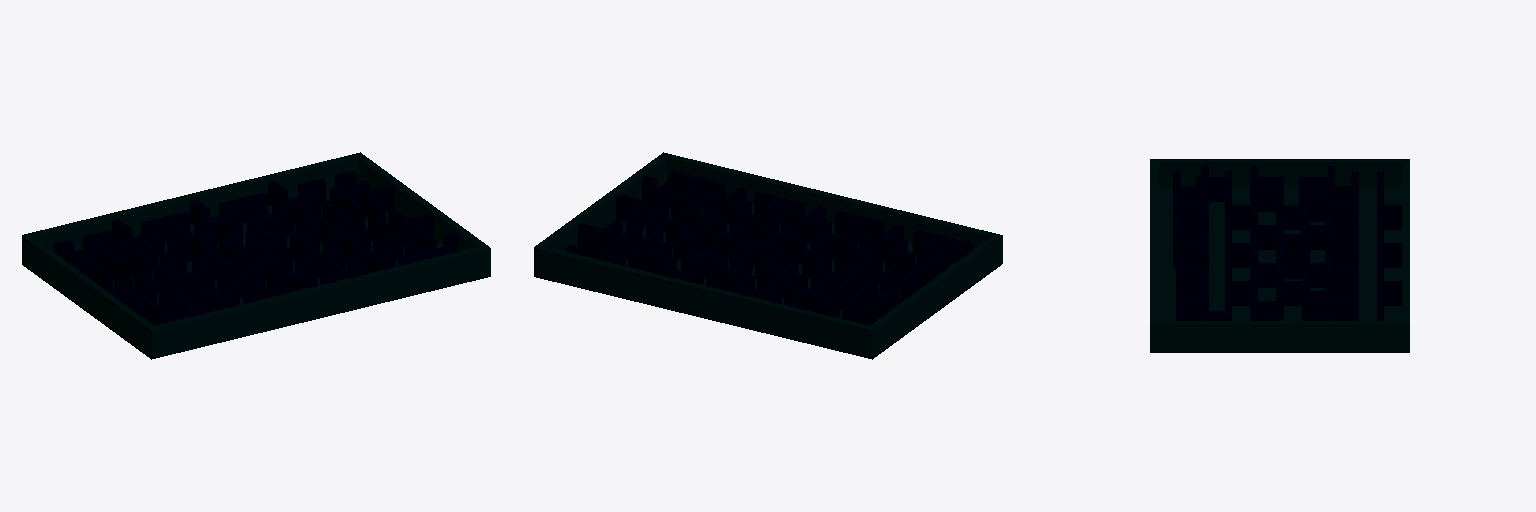
The model's file is MAPA_CUADRICULA.obj.
The picture shows the model from 3 angles: view 1: azimuth 30°, elevation 25°; view 2: azimuth 150°, elevation 25°; view 3: azimuth 270°, elevation 25°; orthographic projection.
Parts seen in each view (by area): view 1: Cube.005, Cube, Cube.001, Cube.002, Cube.003, Plane; view 2: Cube.005, Cube.001, Cube, Cube.002, Cube.003, Plane; view 3: Cube.005, Plane, Cube.003, Cube.002, Cube, Cube.001.
Boxes of the visible parts, box(x1,y1,x2,y2) form: Cube.005: box(67, 171, 458, 325); Cube: box(148, 245, 490, 359); Cube.001: box(22, 152, 362, 266); Cube.002: box(25, 236, 153, 356); Cube.003: box(358, 155, 485, 250); Plane: box(113, 190, 443, 307); Cube.005: box(566, 171, 972, 325); Cube.001: box(534, 245, 875, 359); Cube: box(661, 152, 1002, 266); Cube.002: box(870, 236, 998, 356); Cube.003: box(538, 155, 665, 251); Plane: box(623, 204, 952, 318); Cube.005: box(1173, 166, 1401, 320); Plane: box(1158, 188, 1401, 320); Cube.003: box(1158, 321, 1401, 352); Cube.002: box(1158, 159, 1401, 187); Cube: box(1150, 159, 1157, 352); Cube.001: box(1402, 159, 1409, 352).
Bounding box in the file's own units: 152 × 12.54 × 101.